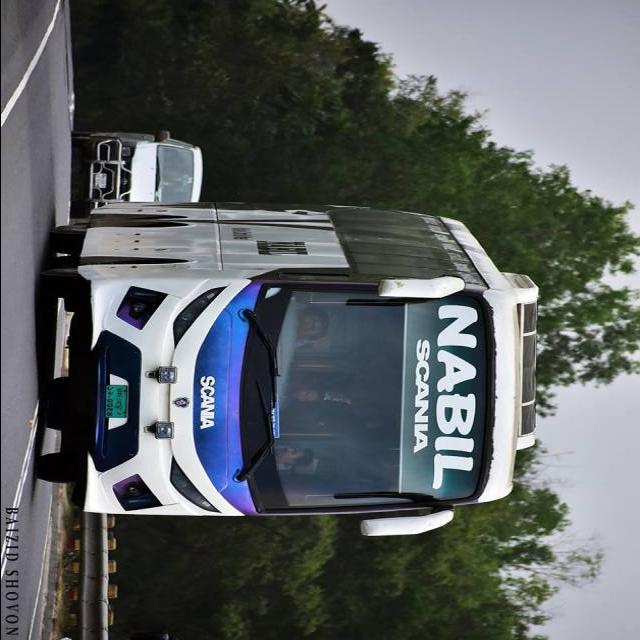bus: (33, 202, 540, 538)
